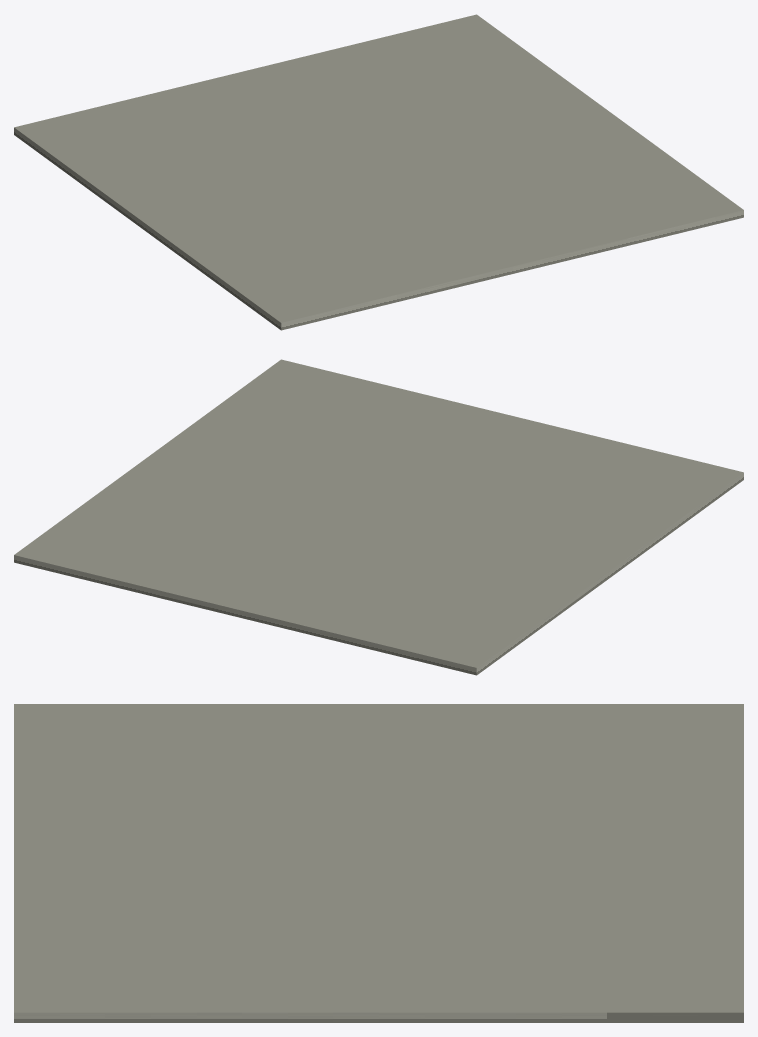
Rendered from ceiling_2b.glb.
3 renders of one model, top to bottom at view 1: azimuth 30°, elevation 25°; view 2: azimuth 150°, elevation 25°; view 3: azimuth 270°, elevation 25°, orthographic. The views are drawn at different scales.
Visible parts, largest first — view 1: ceiling_edge; view 2: ceiling_edge; view 3: ceiling_edge.
Part boxes in pixels (bbox=[...]): ceiling_edge: bbox=[14, 14, 743, 330]; ceiling_edge: bbox=[14, 359, 743, 675]; ceiling_edge: bbox=[14, 704, 743, 1022].
Bounding box in the file's own units: 2 × 0.0438 × 2.
Materials: 1 (1 with a texture image).
